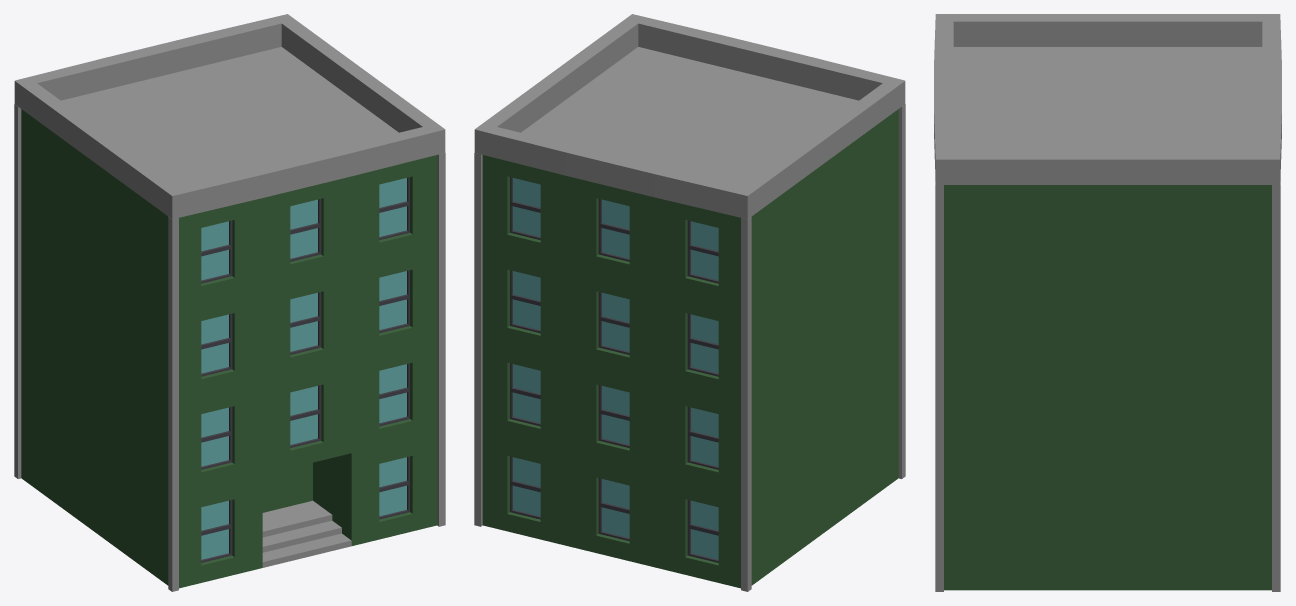
Rendered from cb_Building_2_C.glb.
3 renders of one model, left to right at view 1: azimuth 30°, elevation 25°; view 2: azimuth 150°, elevation 25°; view 3: azimuth 270°, elevation 25°, orthographic. The views are drawn at different scales.
Visible parts, largest first — view 1: Building 2 C; view 2: Building 2 C; view 3: Building 2 C.
Part boxes in pixels (x1,y1,x2,y2): Building 2 C: (14, 14, 445, 591); Building 2 C: (474, 14, 905, 591); Building 2 C: (934, 14, 1281, 591).
Bounding box in the file's own units: 12.3 × 17 × 12.4.
1 material, 1 textured.
